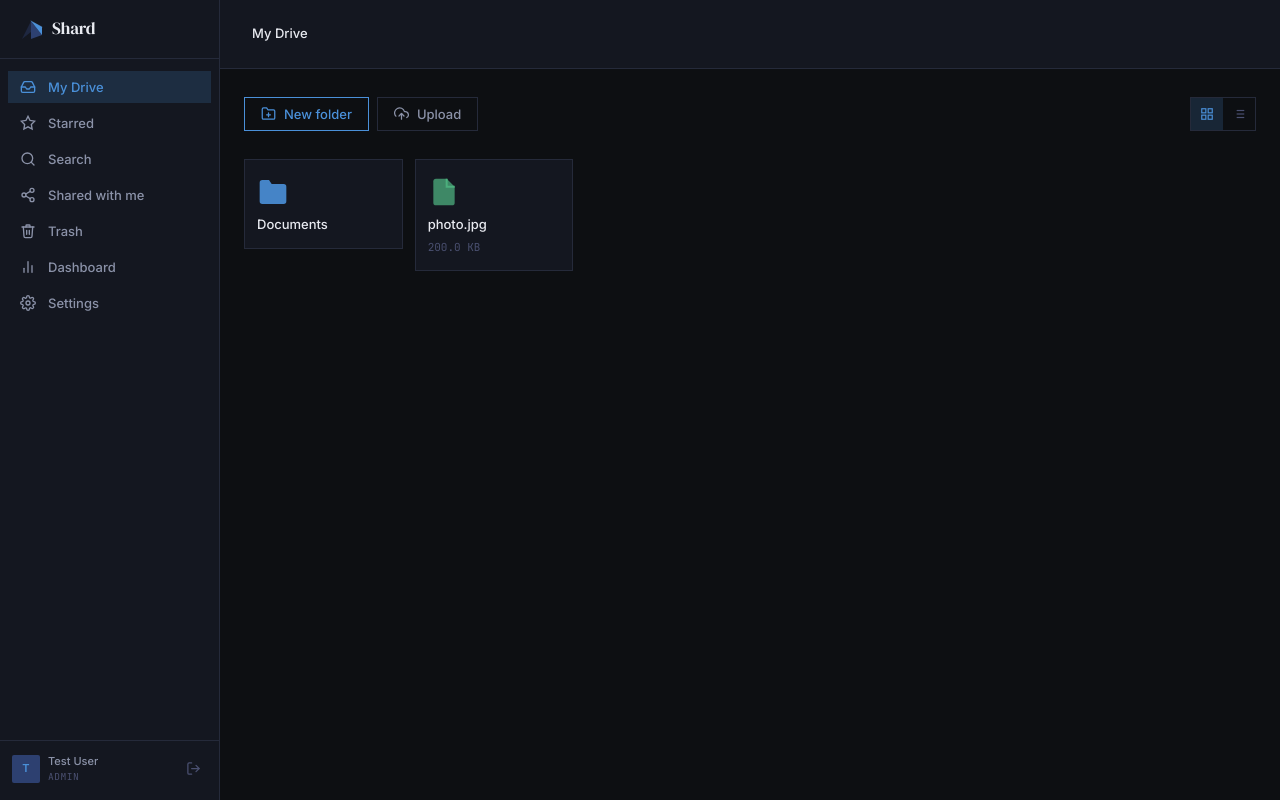
Test case: Drive page › switches to list view when list button is toggled
expect the text "Documents" is shown: met, box [257,216,328,232]
Click the button titled "List view" at (1239, 114), box [1223,98,1255,130]
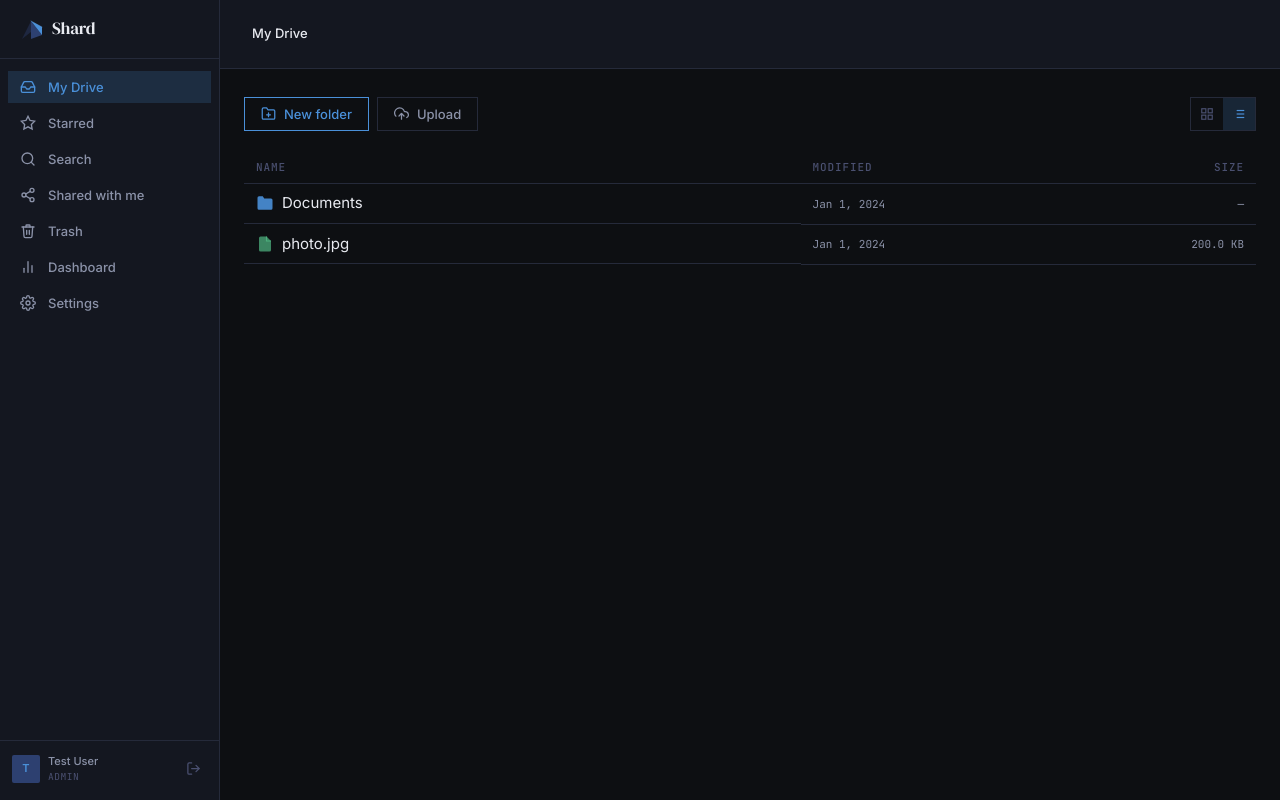
expect the table with test id "file-list" is shown: met, box [244,150,1256,265]
